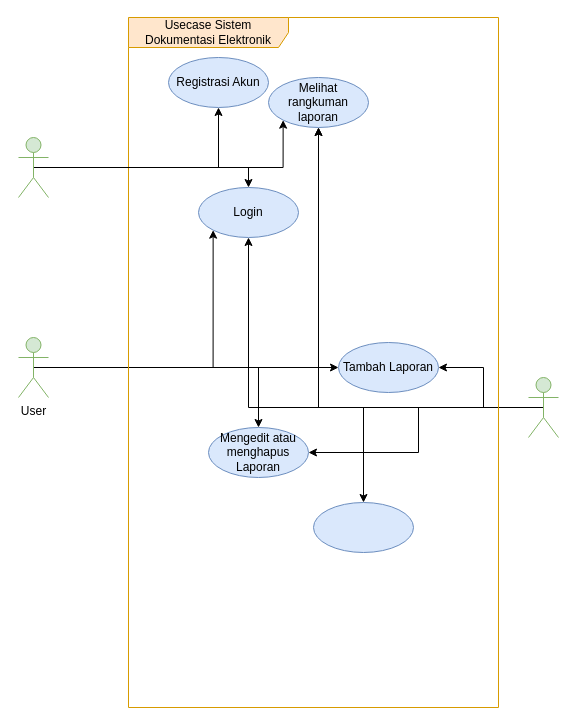
This 577x725 diagram has some shape labels left out. The box of each missing label's shape, as (x1, y1, x2, y2) in pixels:
Admin: (528, 376, 558, 438)
Edit User: (312, 502, 414, 552)
Guest: (18, 136, 48, 198)
